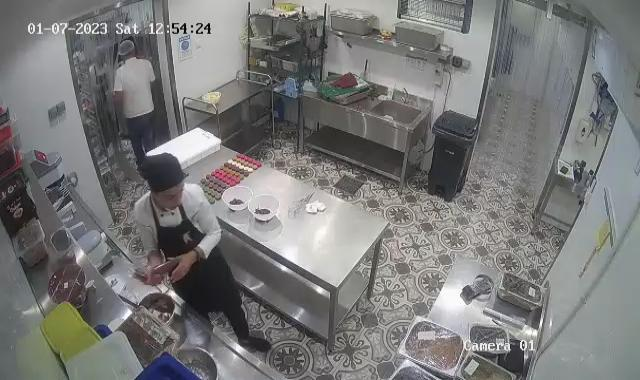hairnet: (116, 38, 138, 61)
no_hairnet: (137, 152, 185, 200)
